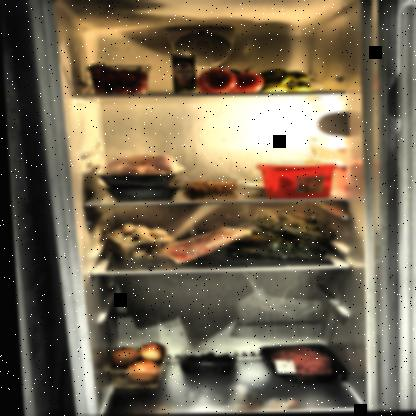banana: (256, 67, 316, 94)
blueberries: (174, 348, 233, 377)
butter: (258, 161, 340, 201)
chicken: (91, 151, 186, 189)
green_beans: (224, 208, 329, 244)
ground_beef: (251, 343, 345, 384)
heavy_cream: (170, 51, 199, 96)
mushrooms: (104, 223, 172, 264)
onion: (105, 341, 161, 384)
shrimp: (180, 177, 241, 194)
spinach: (224, 223, 324, 262)
strawberries: (88, 62, 153, 96)
tomato: (194, 64, 266, 96)
